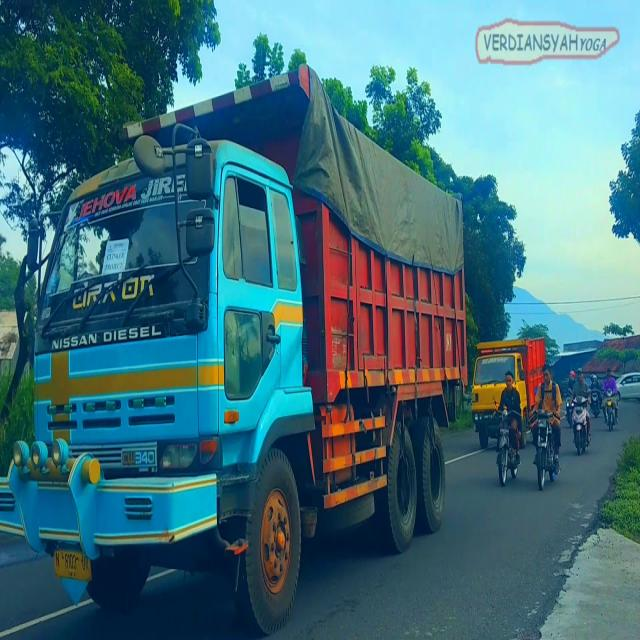truck: (0, 65, 464, 639), (467, 317, 557, 459)
